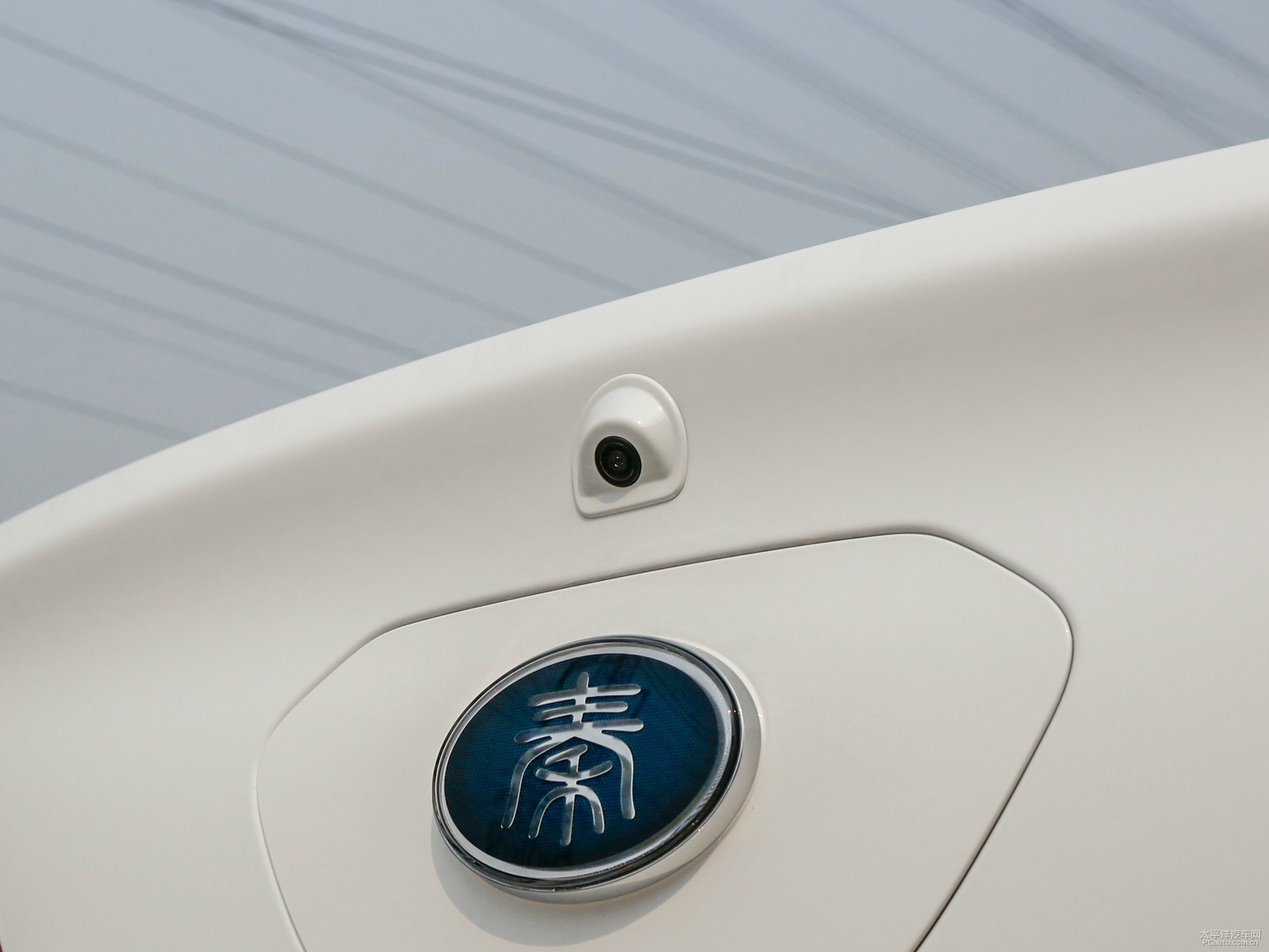BYD Qin: (432, 638, 745, 891)
